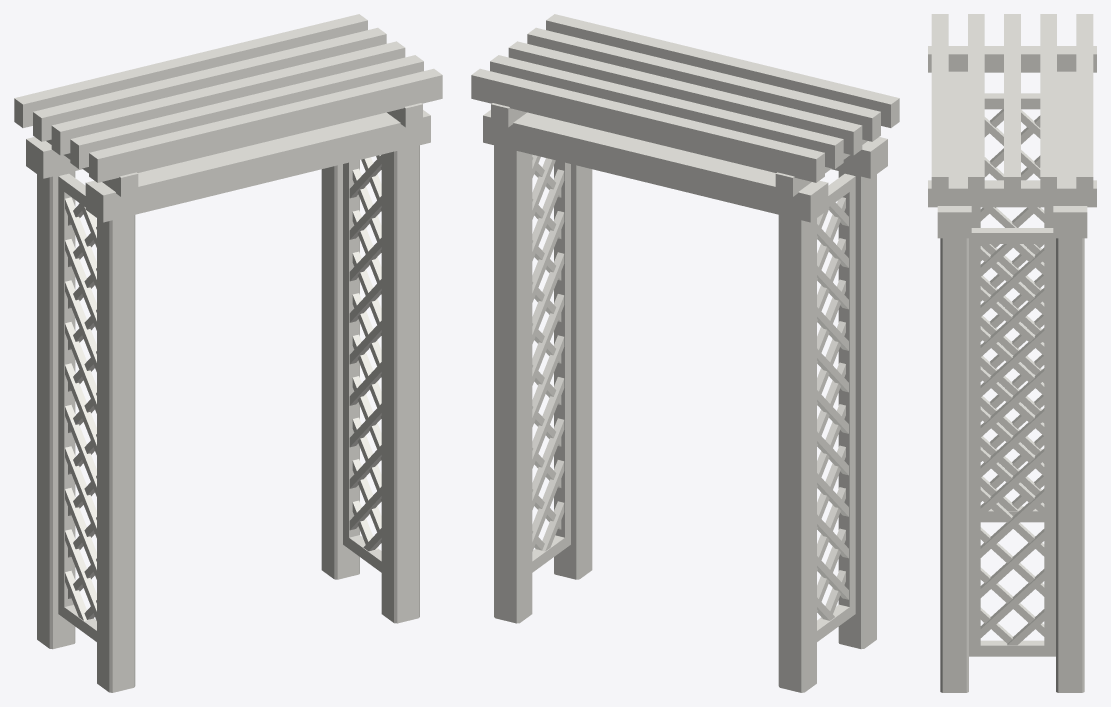
The model's file is FMS_Garden_Arch_Wood_White.fbx.
3 views of the same model, side by side, from view 1: azimuth 30°, elevation 25°; view 2: azimuth 150°, elevation 25°; view 3: azimuth 270°, elevation 25° (orthographic). The views are drawn at different scales.
Visible parts, largest first — view 1: FMS_Garden_Arch_Wood_White_Body; view 2: FMS_Garden_Arch_Wood_White_Body; view 3: FMS_Garden_Arch_Wood_White_Body.
Part boxes in pixels (left/top/right/bottom): FMS_Garden_Arch_Wood_White_Body: left=14, top=14, right=442, bottom=692; FMS_Garden_Arch_Wood_White_Body: left=471, top=14, right=899, bottom=692; FMS_Garden_Arch_Wood_White_Body: left=928, top=14, right=1096, bottom=692.
Bounding box in the file's own units: 1.6 × 2.4 × 0.7.
